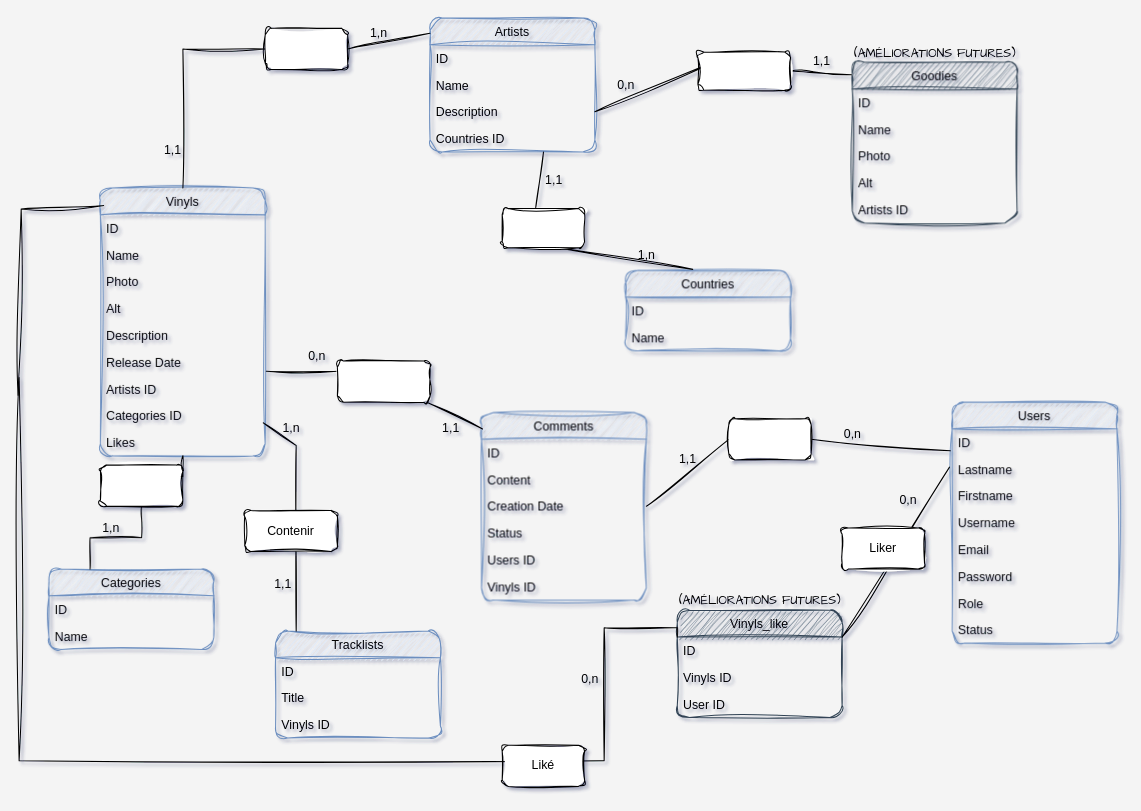
Image size: 1141x811. Some labels were removed from this diagram. Each missing label, with the centre of its shape:
Appartenir: point 141,485
Commenter: point 383,381
Composer: point 306,48
Posséder: point 744,70
Poster: point 769,439
Provenir: point 543,228
